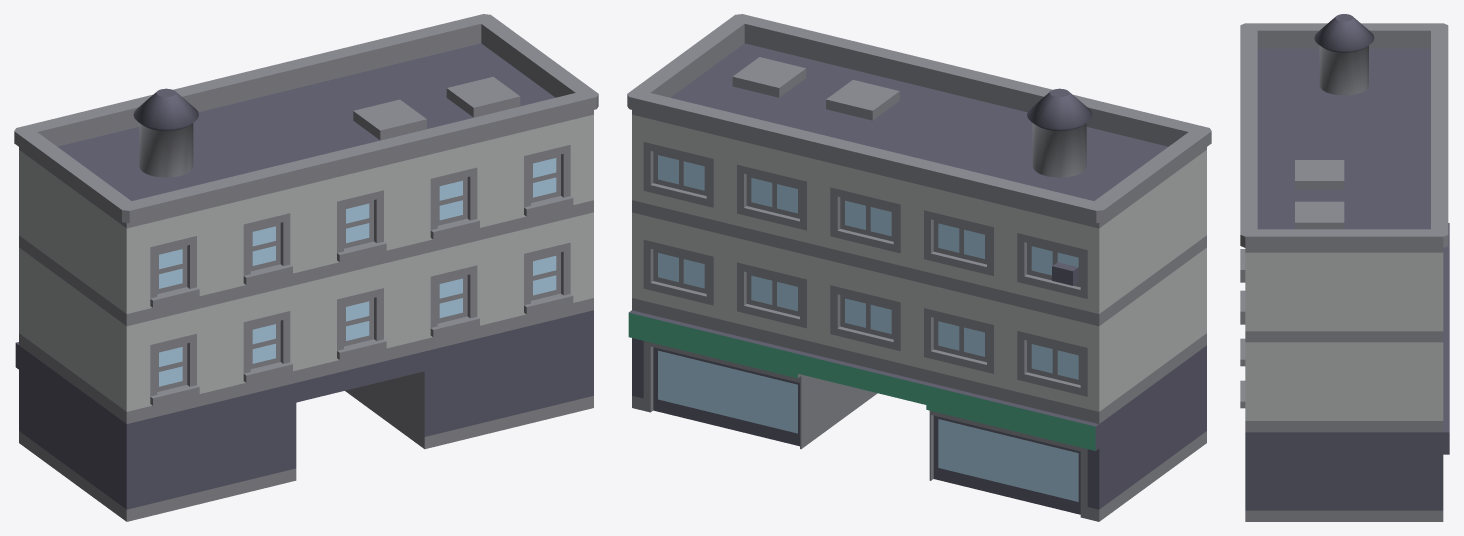
File: large-building-without-door-transformed.glb
3 renders of one model, left to right at view 1: azimuth 30°, elevation 25°; view 2: azimuth 150°, elevation 25°; view 3: azimuth 270°, elevation 25°, orthographic. The views are drawn at different scales.
Parts seen in each view (by area): view 1: large_buildingF; view 2: large_buildingF; view 3: large_buildingF.
Boxes of the visible parts, x1=… form: large_buildingF: x1=14, y1=14, x2=598, y2=521; large_buildingF: x1=627, y1=14, x2=1211, y2=521; large_buildingF: x1=1240, y1=14, x2=1449, y2=521.
Size of the model in its own units: 2.04 by 1.5 by 0.845.
1 material, 1 textured.
